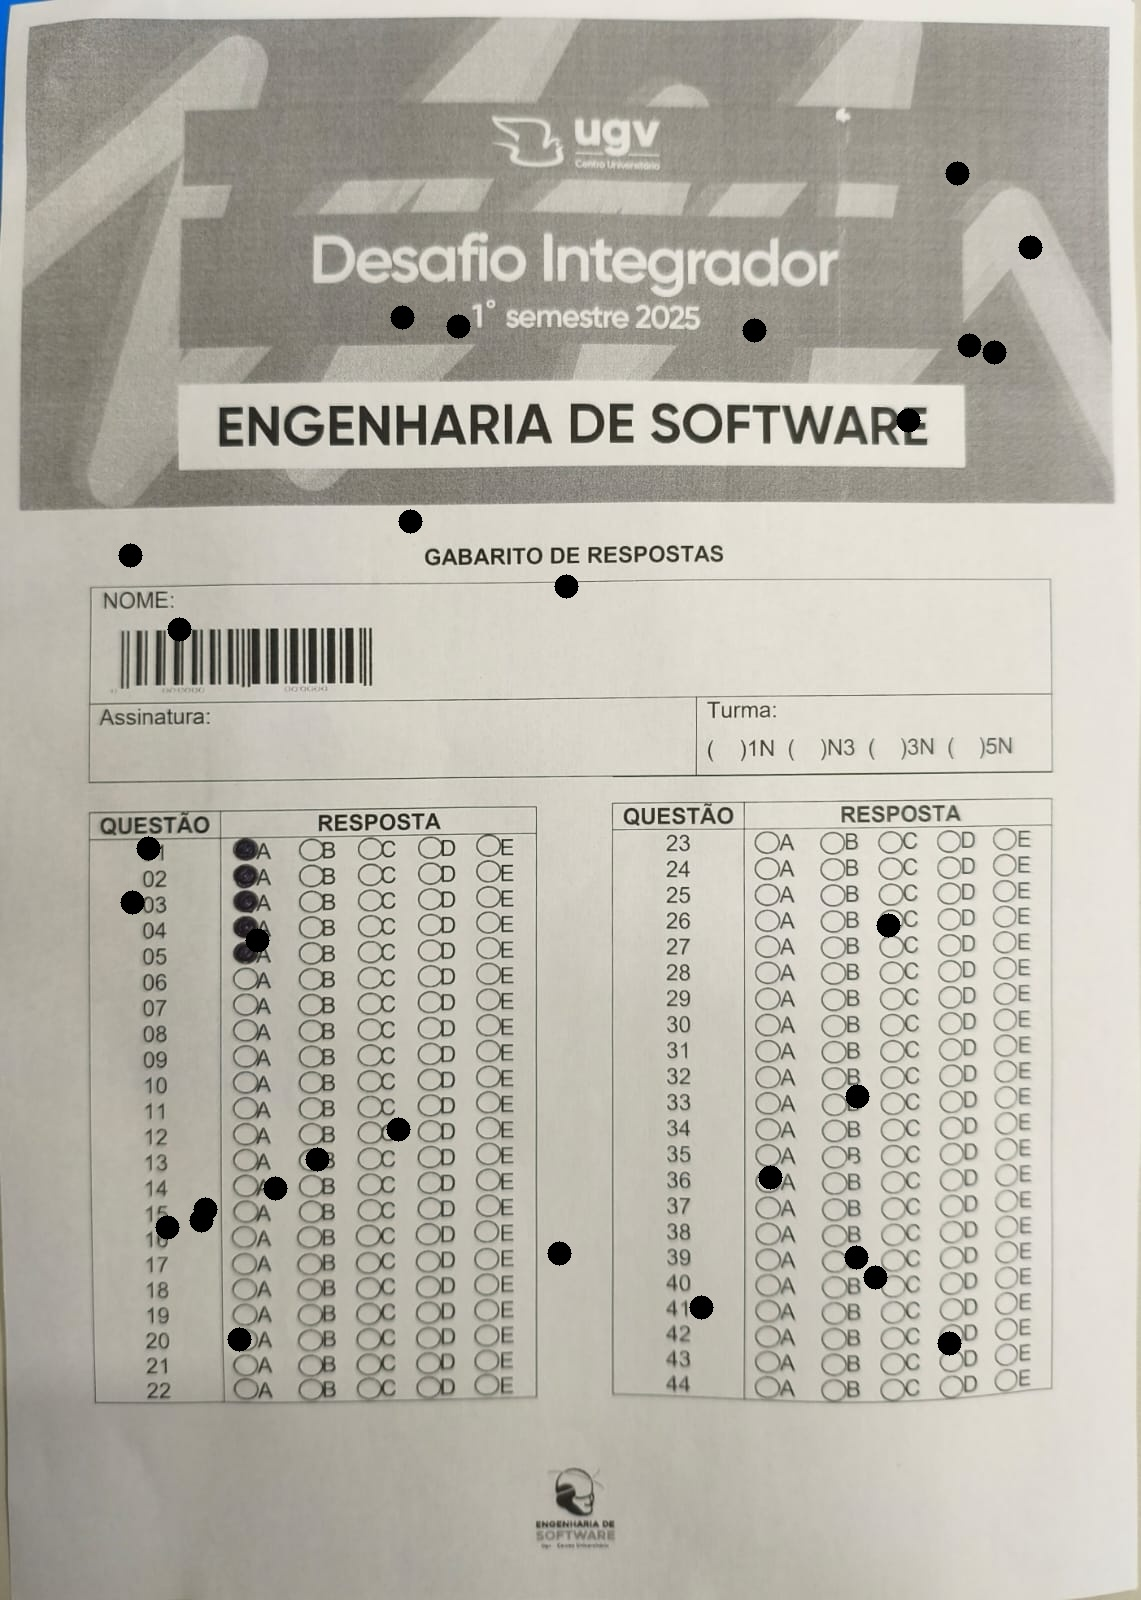bolinha: (982, 335, 1006, 369), (945, 156, 969, 190), (398, 504, 422, 538), (446, 309, 470, 343), (1018, 230, 1042, 264), (136, 831, 161, 865), (876, 909, 900, 942), (193, 1193, 217, 1226), (167, 612, 191, 646), (244, 923, 269, 957), (843, 1241, 868, 1274), (845, 1079, 869, 1112), (120, 885, 144, 919), (156, 1210, 179, 1244), (547, 1236, 570, 1270), (758, 1160, 782, 1194), (896, 404, 920, 437), (189, 1204, 212, 1237), (742, 314, 766, 347), (387, 1112, 410, 1146), (263, 1172, 286, 1205), (305, 1142, 328, 1175), (119, 538, 142, 572), (689, 1290, 713, 1323), (227, 1322, 251, 1356), (554, 569, 578, 602), (957, 328, 980, 362), (937, 1326, 961, 1359), (390, 300, 414, 333), (863, 1260, 887, 1294)
